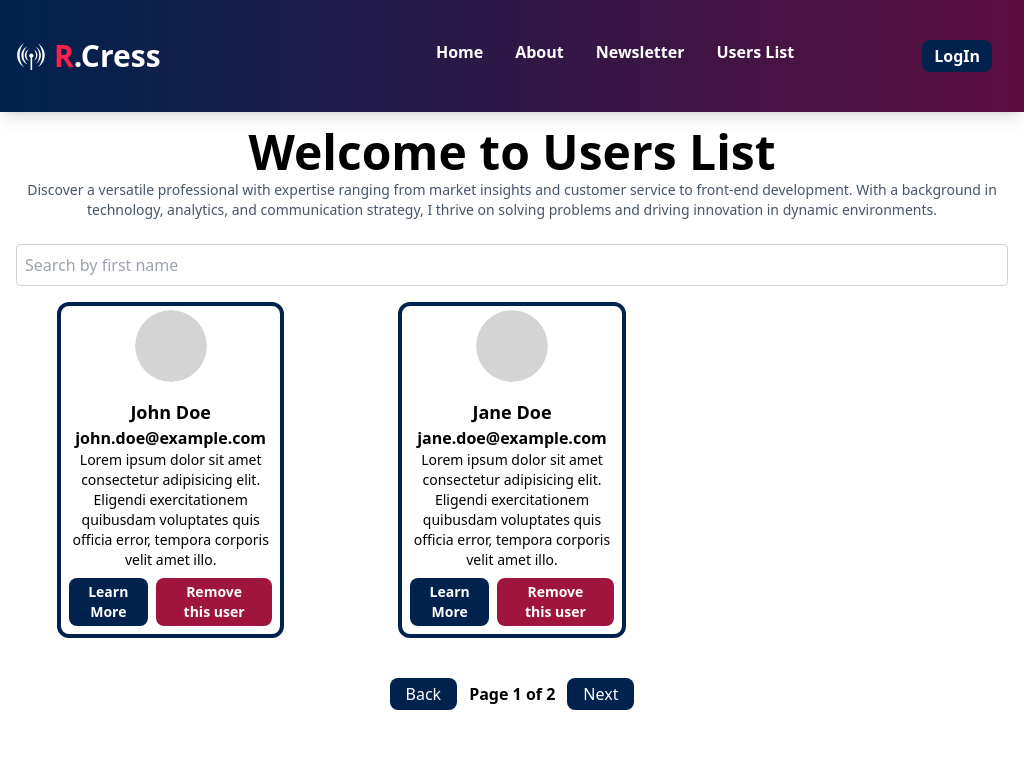
it: filters users based on search
expect the heading "John Doe" is shown: met, box [130, 400, 211, 424]
Simulate search input
Step 1. Type "Jane" into the field with placeholder "Search by first name" → x=512, y=265, box [16, 244, 1008, 286]
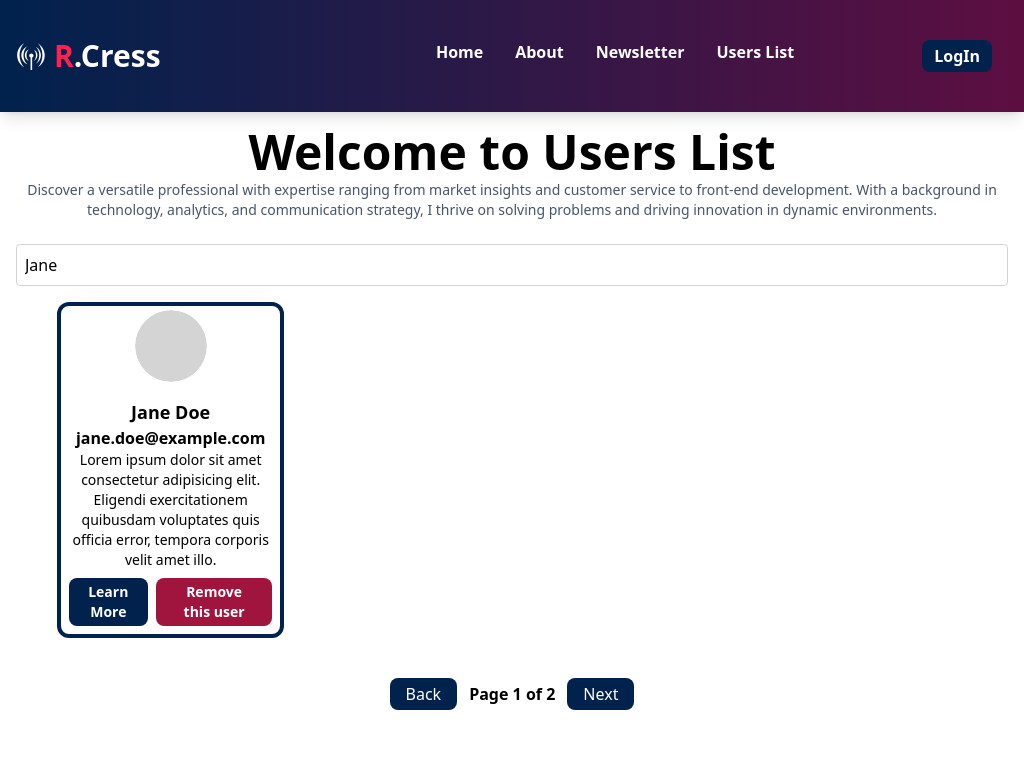
expect the heading "Jane Doe" is shown: met, box [131, 400, 210, 424]
expect the heading "John Doe" is gone: met
